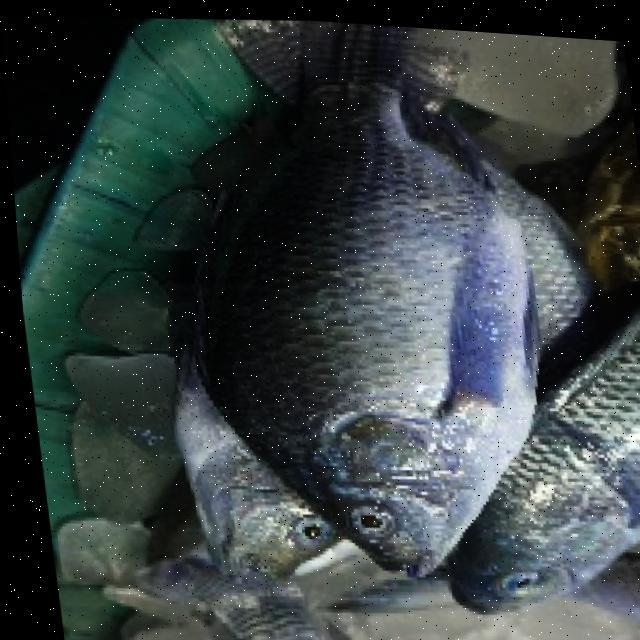Fresh: (178, 9, 548, 597)
